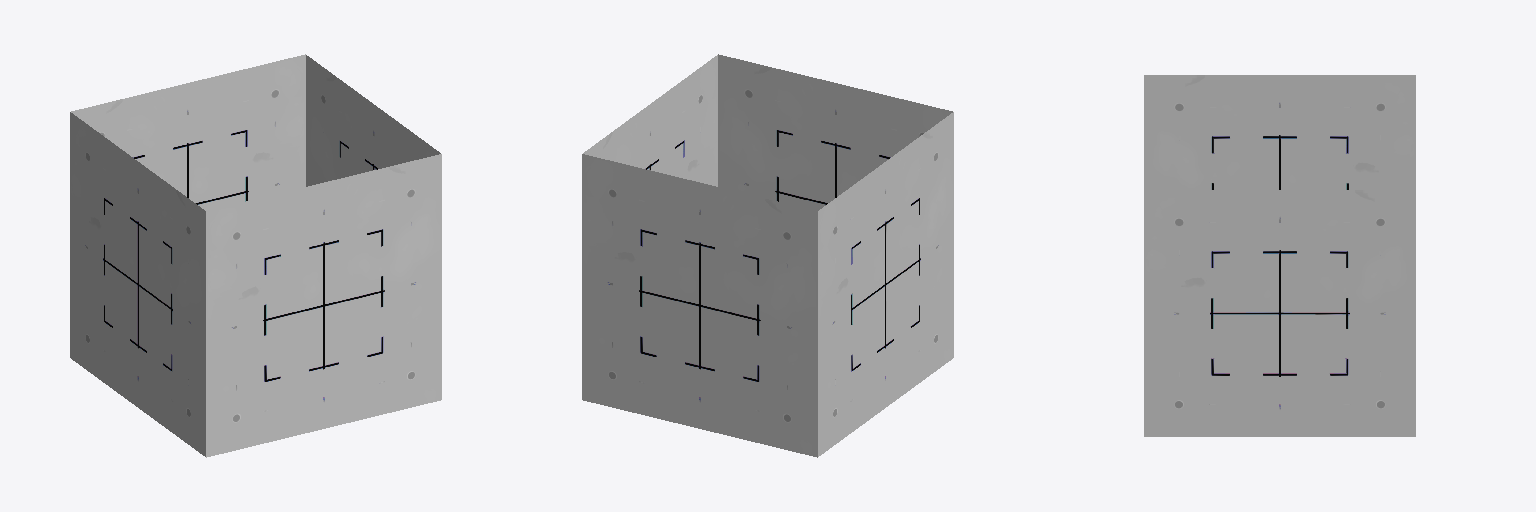
The picture shows the model from 3 angles: view 1: azimuth 30°, elevation 25°; view 2: azimuth 150°, elevation 25°; view 3: azimuth 270°, elevation 25°; orthographic projection.
Visible parts, largest first — view 1: polySurface1 pCube3; view 2: polySurface1 pCube3; view 3: polySurface1 pCube3.
Boxes of the visible parts, box(x1,y1,x2,y2) form: polySurface1 pCube3: box(70, 54, 441, 457); polySurface1 pCube3: box(582, 54, 953, 457); polySurface1 pCube3: box(1144, 75, 1415, 436).
Size of the model in its own units: 1 by 0.9997 by 1.
1 materials, 1 textured.